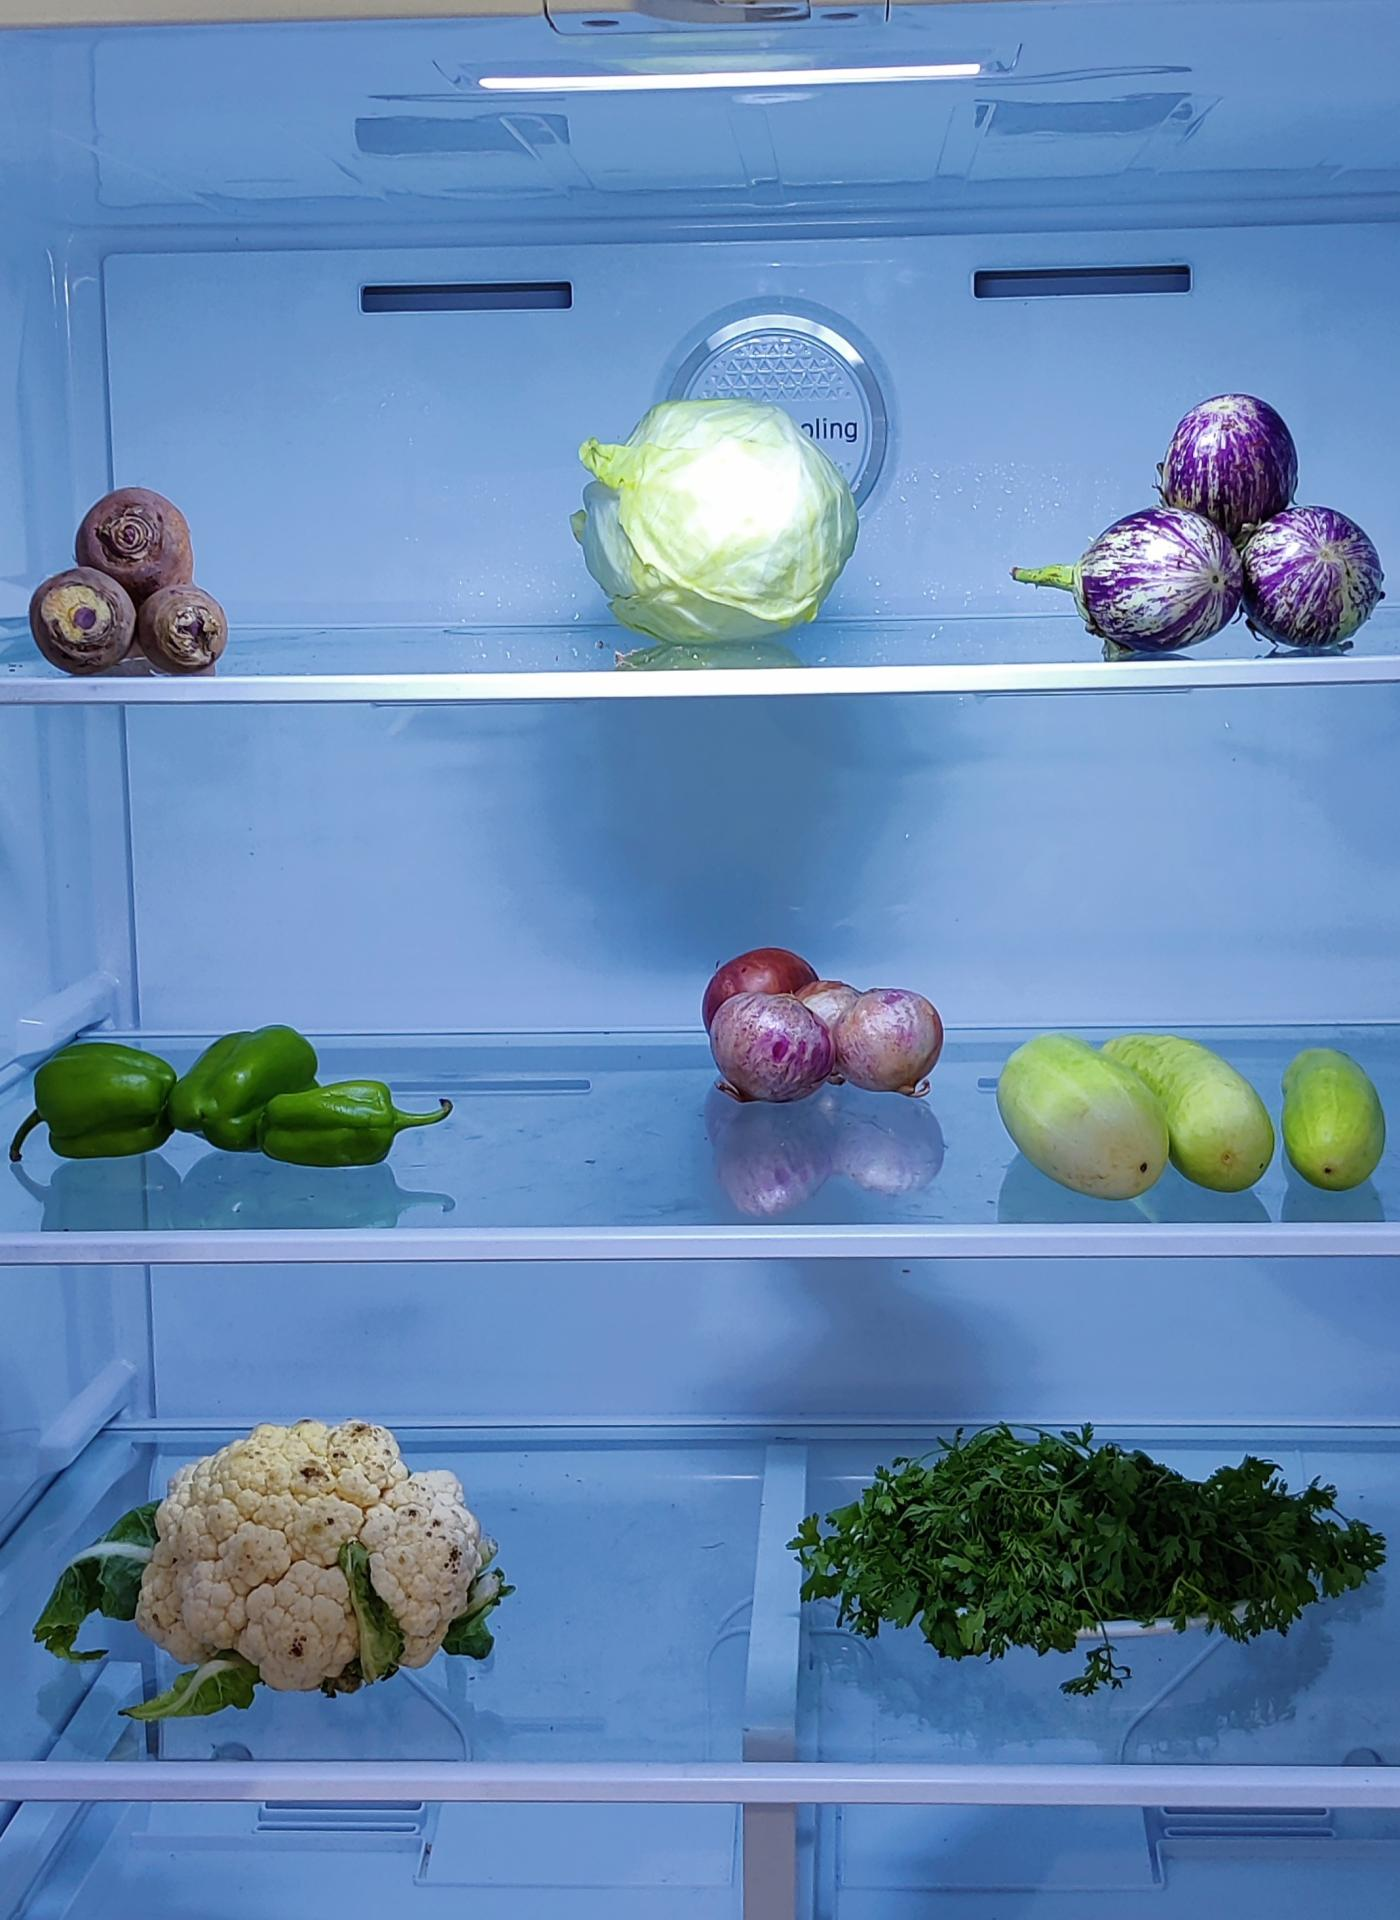brinjal: (1082, 386, 1366, 662)
cabbage: (583, 397, 866, 637)
capsicum: (9, 1024, 438, 1172)
carrots: (30, 480, 237, 680)
cauliflower: (139, 1424, 502, 1699)
coriander: (807, 1425, 1384, 1655)
cucumber: (1005, 1040, 1400, 1219)
onion: (701, 945, 947, 1111)
